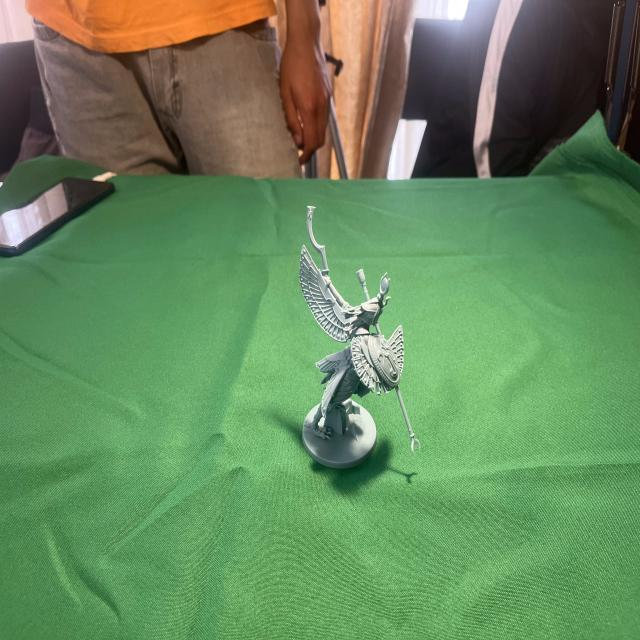isis: (287, 190, 428, 480)
